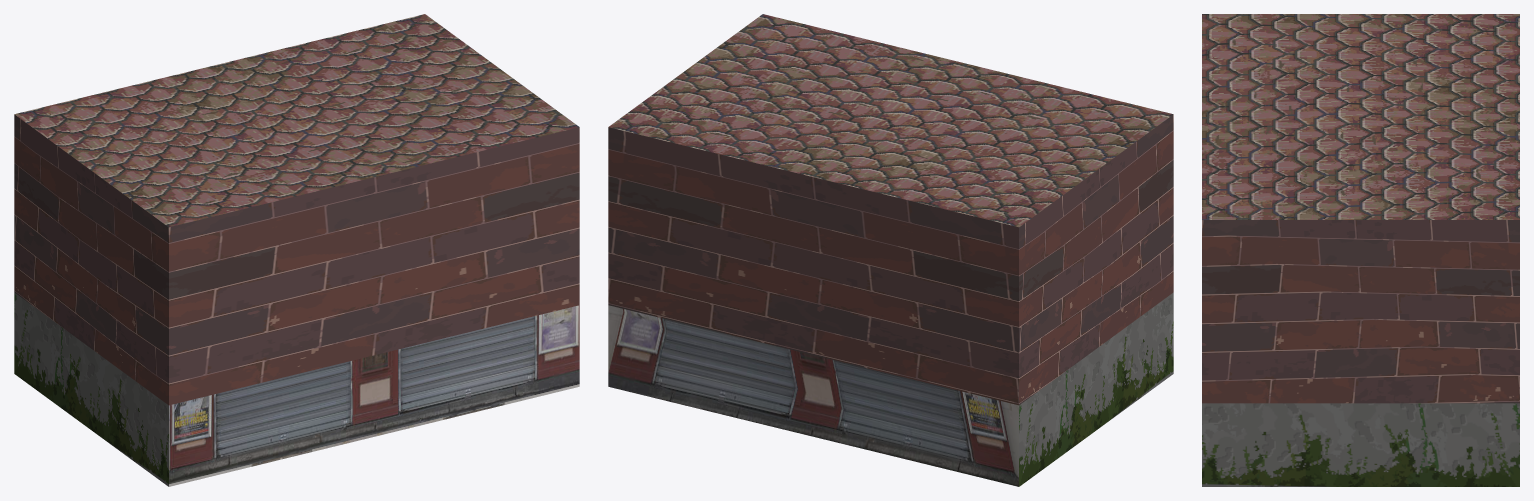
File: buillding 2.glb
3 renders of one model, left to right at view 1: azimuth 30°, elevation 25°; view 2: azimuth 150°, elevation 25°; view 3: azimuth 270°, elevation 25°, orthographic. The views are drawn at different scales.
Parts seen in each view (by area): view 1: Cube; view 2: Cube; view 3: Cube.
Boxes of the visible parts, <box> form: Cube: <box>14,14,579,486</box>; Cube: <box>608,14,1173,486</box>; Cube: <box>1202,14,1519,486</box>.
Size of the model in its own units: 6.73 by 4.06 by 4.38.
5 materials, 4 textured.
